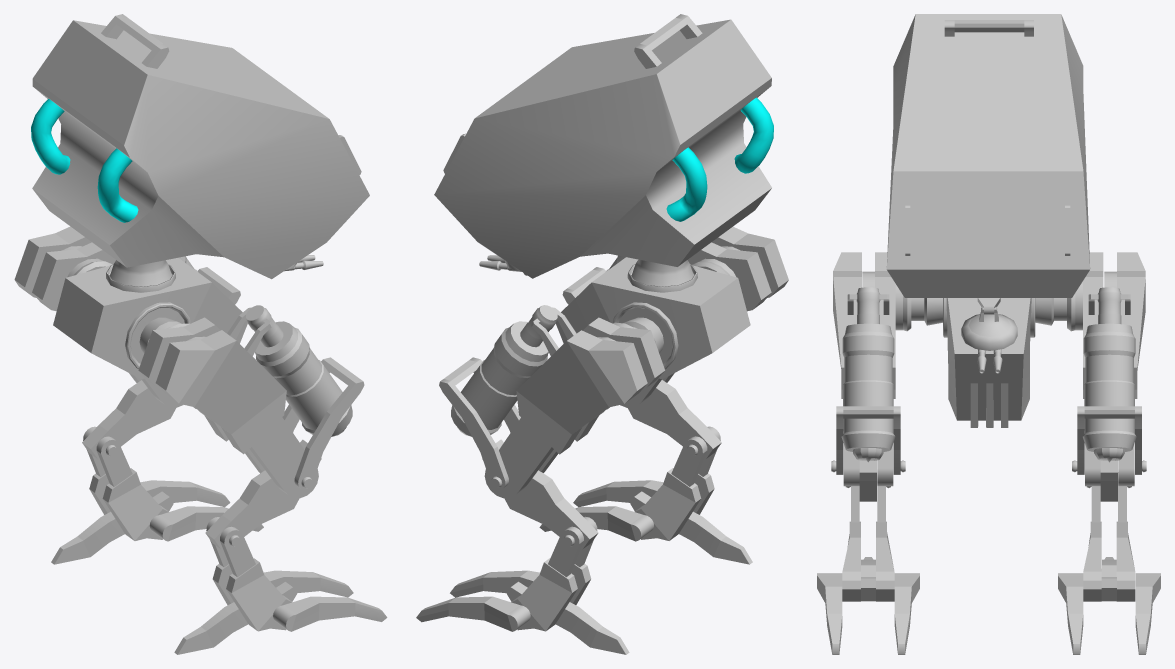
The model's file is Rogue_One.obj.
The picture shows the model from 3 angles, left to right: view 1: azimuth 30°, elevation 25°; view 2: azimuth 150°, elevation 25°; view 3: azimuth 270°, elevation 25°; orthographic projection. The views are drawn at different scales.
Visible parts, largest first — view 1: group7 pCylinder33, pCylinder10 group7, group7 pCylinder34, group7 pCylinder86, group7 pCylinder12, group7 pCylinder72, pCylinder30, group7 pCylinder11, group7 pCylinder16, group7 pCylinder73, group7 pCylinder19, group7 pCylinder64 (+17 smaller); view 2: group7 pCylinder33, group7 pCylinder70, group7 pCylinder34, group7 pCylinder68, group7 pCylinder72, group7 pCylinder12, pCylinder66, group7 pCylinder71, group7 pCylinder75, group7 pCylinder23, group7 pCylinder81, group7 pCylinder26 (+17 smaller); view 3: group7 pCylinder33, group7 pCylinder34, group7 pCylinder86, group7 pCylinder68, group7 pCylinder70, pCylinder10 group7, pCylinder30, group9 pCylinder44, pCylinder66, pCylinder63, pCylinder29, group7 pCylinder62 (+20 smaller).
Boxes of the visible parts, <box> form: group7 pCylinder33: <box>32,20,369,279</box>; pCylinder10 group7: <box>155,330,286,454</box>; group7 pCylinder34: <box>53,258,247,379</box>; group7 pCylinder86: <box>255,321,352,436</box>; group7 pCylinder12: <box>205,439,321,549</box>; group7 pCylinder72: <box>82,380,176,459</box>; pCylinder30: <box>282,357,364,489</box>; group7 pCylinder11: <box>249,417,318,498</box>; group7 pCylinder16: <box>226,558,292,631</box>; group7 pCylinder73: <box>102,468,168,540</box>; group7 pCylinder19: <box>273,596,387,631</box>; group7 pCylinder64: <box>32,242,115,311</box>; group7 pCylinder33: <box>434,19,771,278</box>; group7 pCylinder70: <box>516,330,647,454</box>; group7 pCylinder34: <box>556,257,750,379</box>; group7 pCylinder68: <box>451,321,548,436</box>; group7 pCylinder72: <box>482,439,598,549</box>; group7 pCylinder12: <box>628,380,721,458</box>; pCylinder66: <box>439,357,520,489</box>; group7 pCylinder71: <box>484,417,553,498</box>; group7 pCylinder75: <box>511,558,577,631</box>; group7 pCylinder23: <box>635,468,701,540</box>; group7 pCylinder81: <box>416,596,530,631</box>; group7 pCylinder26: <box>687,242,771,311</box>; group7 pCylinder33: <box>886,14,1090,297</box>; group7 pCylinder34: <box>946,298,1031,420</box>; group7 pCylinder86: <box>841,323,895,451</box>; group7 pCylinder68: <box>1082,323,1136,451</box>; group7 pCylinder70: <box>1117,252,1145,398</box>; pCylinder10 group7: <box>833,252,861,398</box>; pCylinder30: <box>836,406,900,474</box>; group9 pCylinder44: <box>961,314,1017,350</box>; pCylinder66: <box>1077,406,1141,474</box>; pCylinder63: <box>1030,281,1082,337</box>; pCylinder29: <box>895,284,947,337</box>; group7 pCylinder62: <box>894,573,919,654</box>.
Size of the model in its own units: 3.39 by 7.3 by 4.08.
